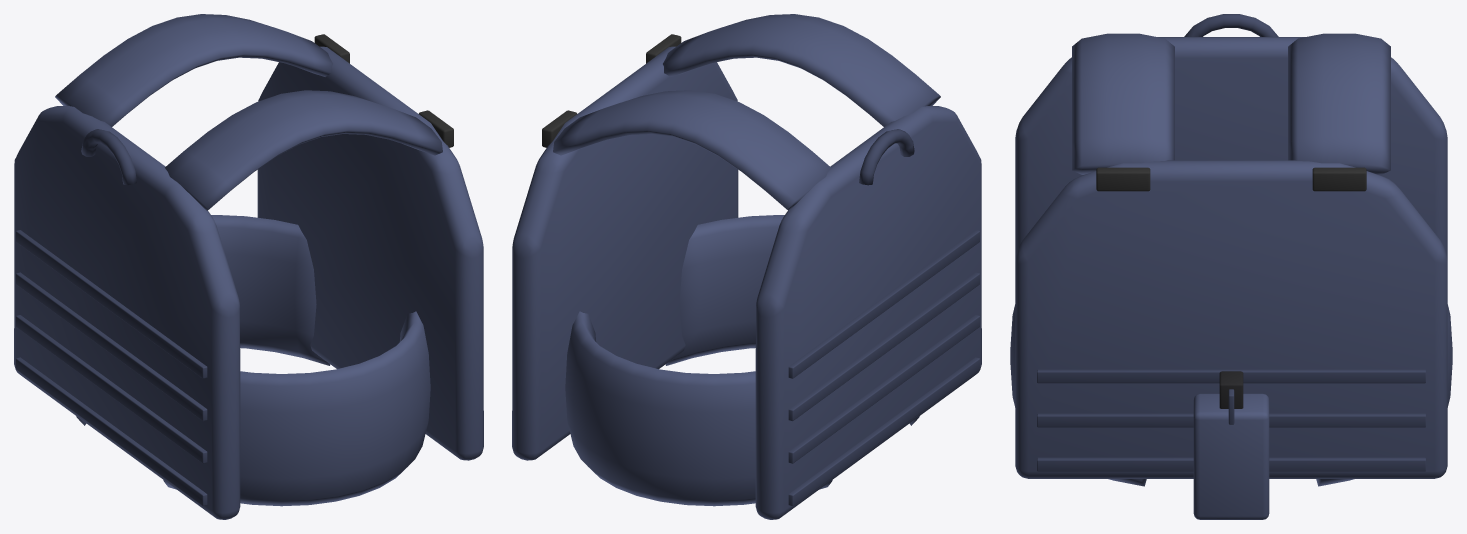
Rendered from SM_SoftVest.glb.
3 renders of one model, left to right at view 1: azimuth 30°, elevation 25°; view 2: azimuth 150°, elevation 25°; view 3: azimuth 270°, elevation 25°, orthographic. The views are drawn at different scales.
Parts seen in each view (by area): view 1: SM_SoftVest; view 2: SM_SoftVest; view 3: SM_SoftVest.
Part boxes in pixels (x1,y1,x2,y2): SM_SoftVest: (14,14,483,519); SM_SoftVest: (512,14,981,519); SM_SoftVest: (1010,14,1452,519).
Size of the model in its own units: 0.367 by 0.387 by 0.4092.
